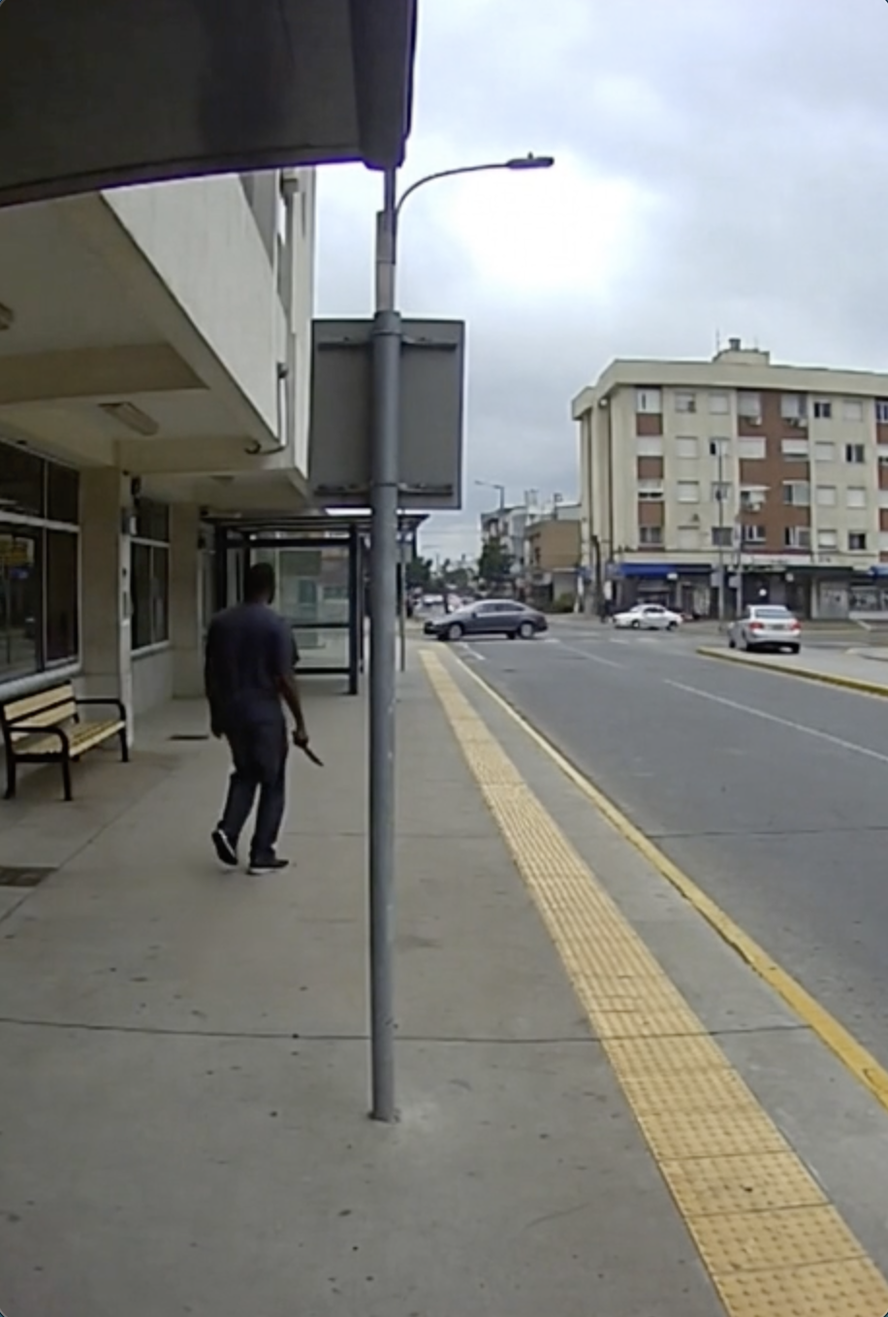Heavy Gun: (192, 564, 304, 874)
Knife: (280, 724, 329, 769)
